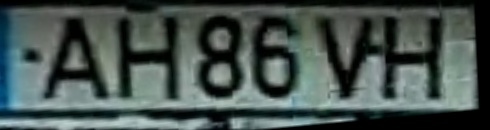6: (248, 11, 304, 103)
8: (192, 10, 246, 103)
A: (37, 14, 115, 103)
H: (113, 13, 183, 105), (380, 13, 444, 102)
V: (312, 14, 380, 103)
